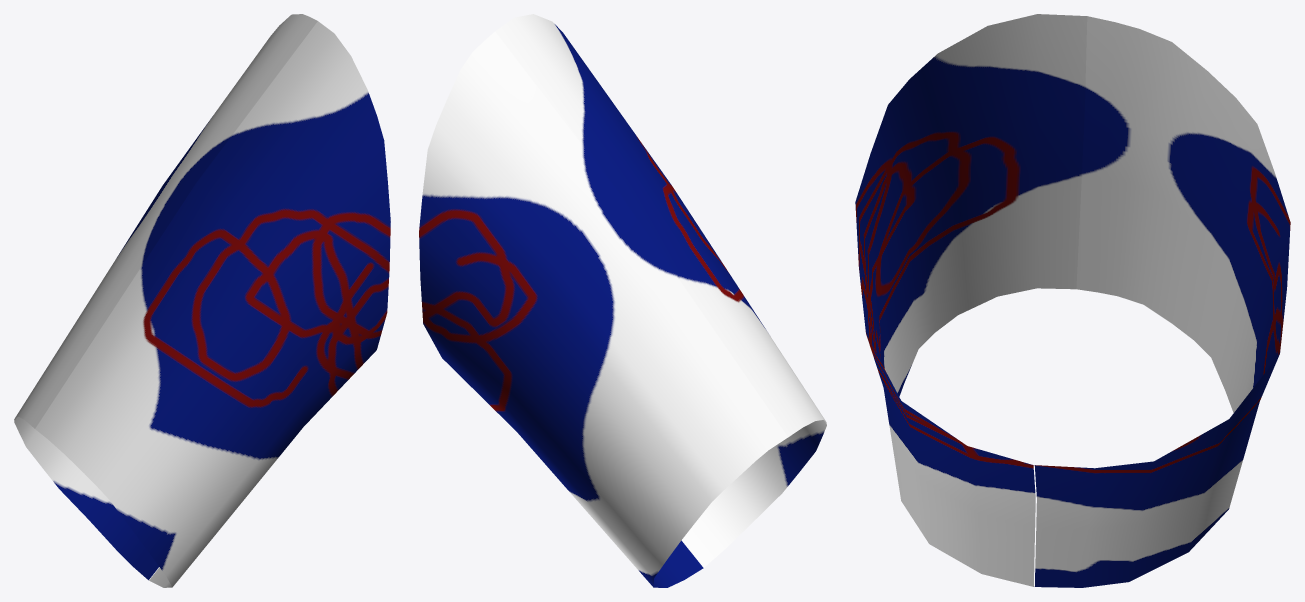
File: right.glb
3 views of the same model, side by side, from view 1: azimuth 30°, elevation 25°; view 2: azimuth 150°, elevation 25°; view 3: azimuth 270°, elevation 25° (orthographic). The views are drawn at different scales.
Parts seen in each view (by area): view 1: rightsleeve; view 2: rightsleeve; view 3: rightsleeve.
Part boxes in pixels (x1,y1,x2,y2): rightsleeve: (14, 14, 390, 587); rightsleeve: (419, 14, 826, 587); rightsleeve: (855, 14, 1290, 587).
Size of the model in its own units: 0.4772 by 0.777 by 0.4375.
Materials: 1 (1 with a texture image).
